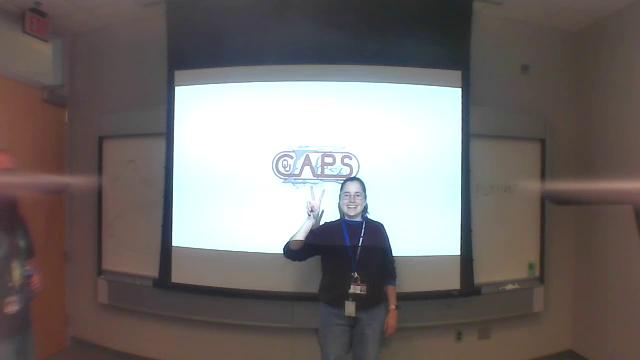peace: (301, 181, 327, 219)
